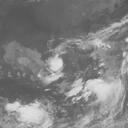cyclone: (41, 52, 67, 77)
